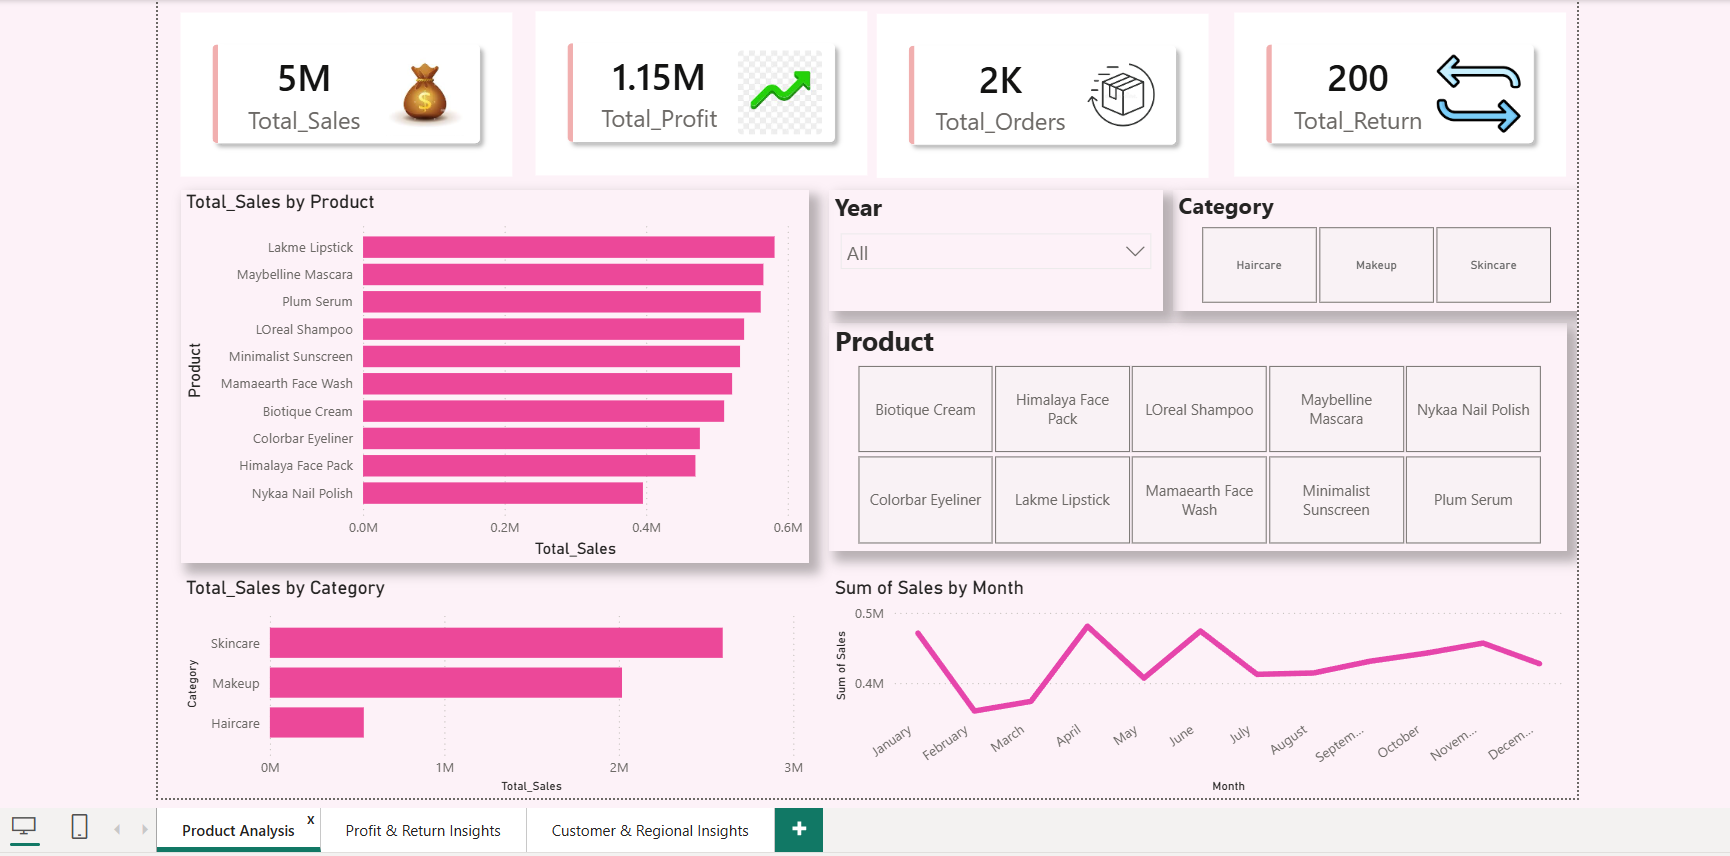

This screenshot's page, from the dashboard's own definition file:
{"tool":"powerbi","page":{"name":"Product Analysis","canvas":[1280,720],"ordinal":0},"visuals":[{"type":"cardVisual","fields":{"Data":["_Measure_Table.Total_Sales"]},"box":[20.8,11,299.6,148],"z":0},{"type":"cardVisual","fields":{"Data":["_Measure_Table.Total_Profit"]},"box":[339.9,9.8,299.6,148],"z":1000},{"type":"cardVisual","fields":{"Data":["_Measure_Table.Total_Orders"]},"box":[648.1,12.2,299.6,148],"z":2000},{"type":"cardVisual","fields":{"Data":["_Measure_Table.Total_Return"]},"box":[970.9,11,299.6,148],"z":3000},{"type":"clusteredBarChart","fields":{"Y":["_Measure_Table.Total_Sales"],"Category":["Nykaa_Sales_2017_2022.Product"]},"box":[20.6,171.5,566.7,336.2],"z":4000},{"type":"clusteredBarChart","fields":{"Category":["Nykaa_Sales_2017_2022.Category"],"Y":["_Measure_Table.Total_Sales"]},"box":[20.6,520.1,566.7,200.3],"z":5000},{"type":"slicer","title":"Year","fields":{"Values":["Nykaa_Sales_2017_2022.OrderDate.Variation.Date Hierarchy.Year"]},"box":[605.1,171.5,300.5,108.4],"z":6000},{"type":"slicer","title":"Category","fields":{"Values":["Nykaa_Sales_2017_2022.Category"]},"box":[915.3,171.5,365,108.4],"z":7000},{"type":"slicer","title":"Product","fields":{"Values":["Nykaa_Sales_2017_2022.Product"]},"box":[605.1,290.9,665.5,205.8],"z":8000},{"type":"lineChart","fields":{"Y":["Sum(Nykaa_Sales_2017_2022.Sales)"],"Category":["Nykaa_Sales_2017_2022.OrderDate.Variation.Date Hierarchy.Year","Nykaa_Sales_2017_2022.OrderDate.Variation.Date Hierarchy.Quarter","Nykaa_Sales_2017_2022.OrderDate.Variation.Date Hierarchy.Month","Nykaa_Sales_2017_2022.OrderDate.Variation.Date Hierarchy.Day"]},"box":[605,520,666,200],"z":9000}]}

Visuals, with their boxes on the page's 1280x720 design canvas (x1, y1, x2, y2). These are canvas units, not pixel positions in the 1730x856 screenshot, which may show the page scaled, cropped or inside an application window:
cardVisual - _Measure_Table.Total_Sales: <bbox>21, 11, 320, 159</bbox>
cardVisual - _Measure_Table.Total_Profit: <bbox>340, 10, 640, 158</bbox>
cardVisual - _Measure_Table.Total_Orders: <bbox>648, 12, 948, 160</bbox>
cardVisual - _Measure_Table.Total_Return: <bbox>971, 11, 1270, 159</bbox>
clusteredBarChart - _Measure_Table.Total_Sales x Nykaa_Sales_2017_2022.Product: <bbox>21, 172, 587, 508</bbox>
clusteredBarChart - Nykaa_Sales_2017_2022.Category x _Measure_Table.Total_Sales: <bbox>21, 520, 587, 720</bbox>
"Year" slicer: <bbox>605, 172, 906, 280</bbox>
"Category" slicer: <bbox>915, 172, 1280, 280</bbox>
"Product" slicer: <bbox>605, 291, 1271, 497</bbox>
lineChart - Sum(Nykaa_Sales_2017_2022.Sales) x Nykaa_Sales_2017_2022.OrderDate.Variation.Date Hierarchy.Year: <bbox>605, 520, 1271, 720</bbox>
